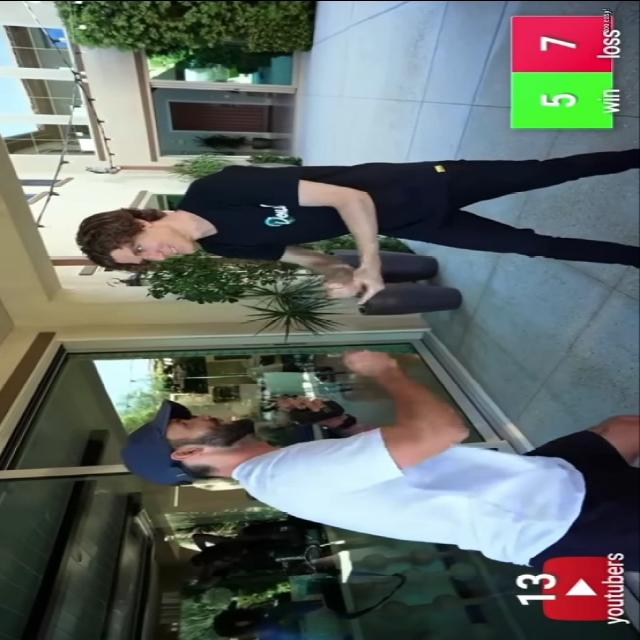Rock: (344, 346, 399, 374), (322, 270, 360, 298)
